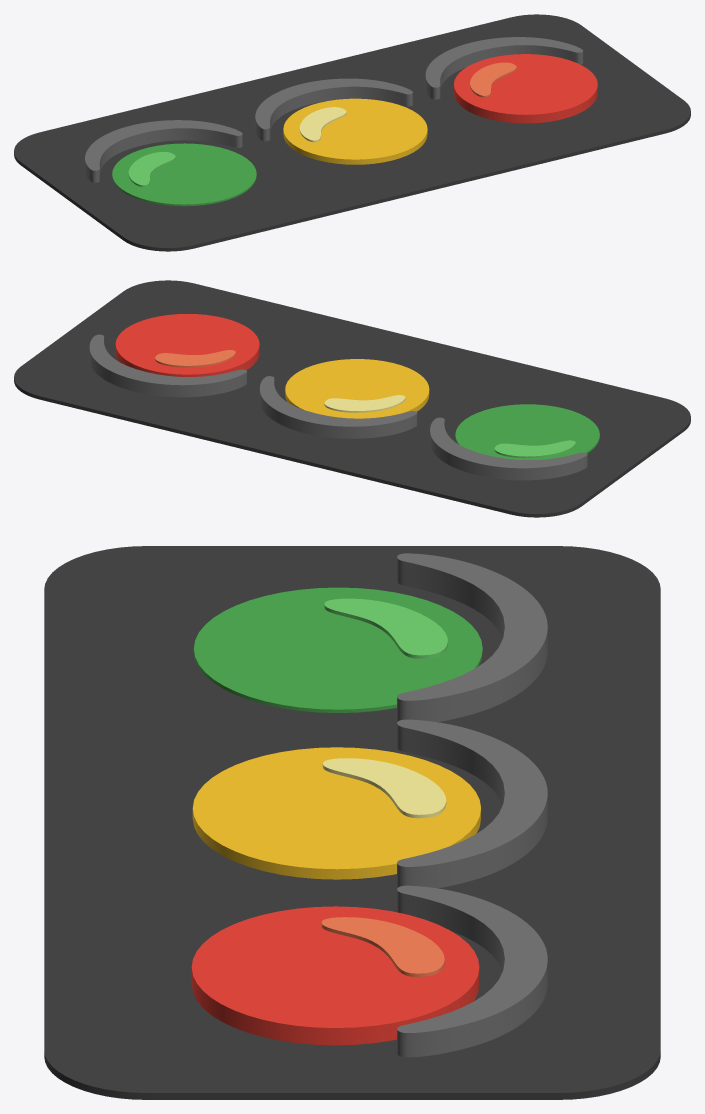
The model's file is emoji_u1f6a5.glb.
3 views of the same model, one above another, from view 1: azimuth 30°, elevation 25°; view 2: azimuth 150°, elevation 25°; view 3: azimuth 270°, elevation 25° (orthographic). The views are drawn at different scales.
Visible parts, largest first — view 1: emoji_u1f6a5; view 2: emoji_u1f6a5; view 3: emoji_u1f6a5.
Part boxes in pixels (left/top/right/bottom): emoji_u1f6a5: left=14, top=14, right=690, bottom=251; emoji_u1f6a5: left=14, top=280, right=690, bottom=517; emoji_u1f6a5: left=44, top=546, right=660, bottom=1099.
Size of the model in its own units: 0.0339 by 0.0016 by 0.0161.
